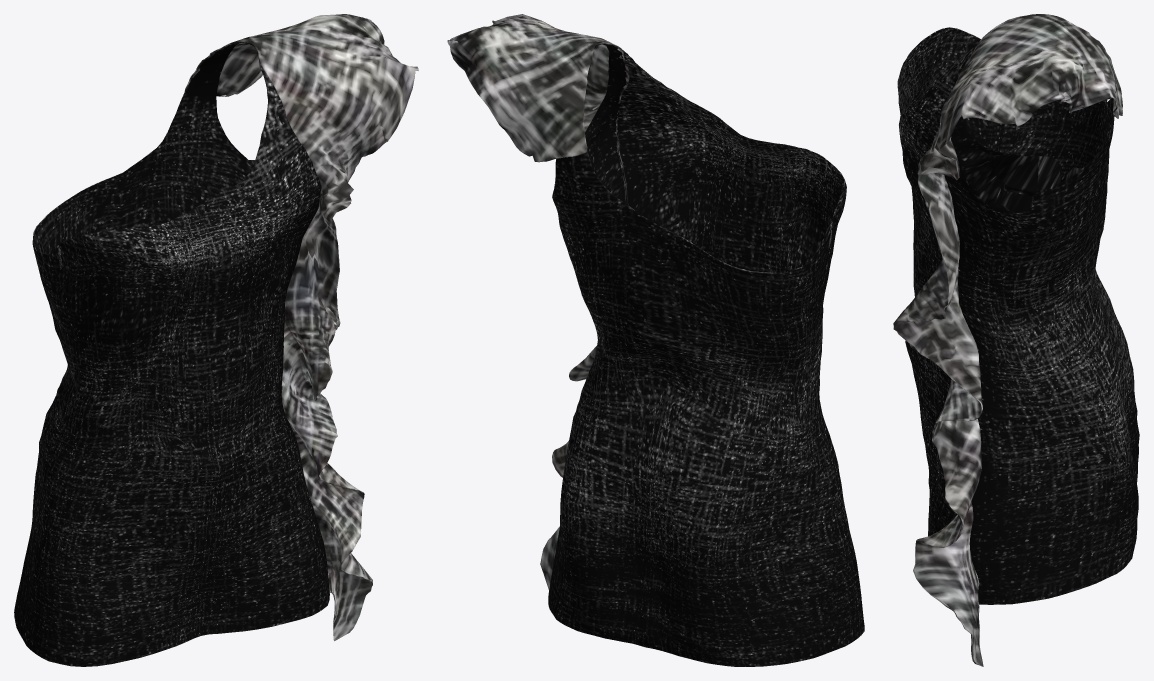
File: elvs-frilled-party-dress.glb
3 views of the same model, side by side, from view 1: azimuth 30°, elevation 25°; view 2: azimuth 150°, elevation 25°; view 3: azimuth 270°, elevation 25° (orthographic). The views are drawn at different scales.
Parts seen in each view (by area): view 1: Human.elvs_frilled_party_dress; view 2: Human.elvs_frilled_party_dress; view 3: Human.elvs_frilled_party_dress.
Boxes of the visible parts, box(x1,y1,x2,y2) form: Human.elvs_frilled_party_dress: box(14, 14, 418, 666); Human.elvs_frilled_party_dress: box(447, 14, 864, 666); Human.elvs_frilled_party_dress: box(893, 14, 1139, 666).
Size of the model in its own units: 0.5556 by 0.853 by 0.3056.
Materials: 1 (1 with a texture image).
